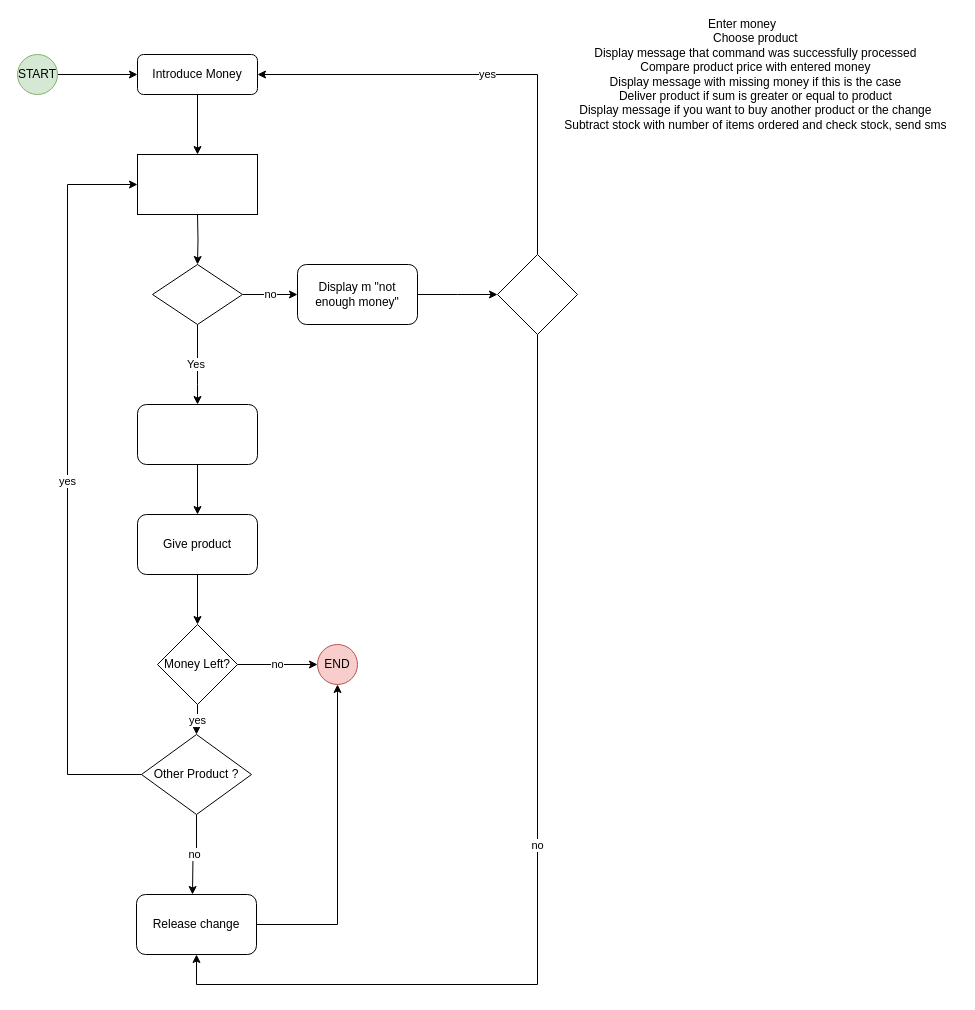
This 975x1010 diagram has some shape labels left out. The box of each missing label's shape, as (x1, y1, x2, y2) in pixels:
Choose a product: (136, 154, 258, 214)
Enough money: (152, 264, 242, 324)
Proceed?: (496, 254, 578, 334)
Successful Message & Money Left: (136, 404, 258, 464)
